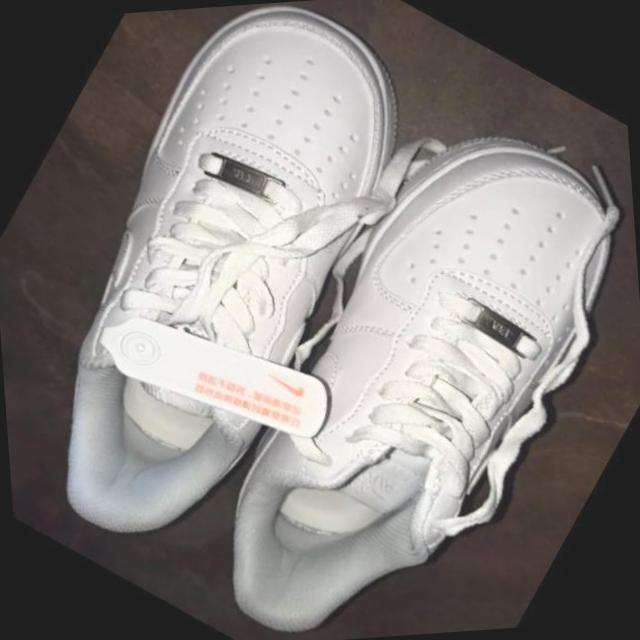nike_fake_airforce: (0, 0, 488, 590), (141, 80, 640, 640)
